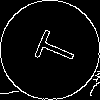T: (25, 25, 79, 72)
